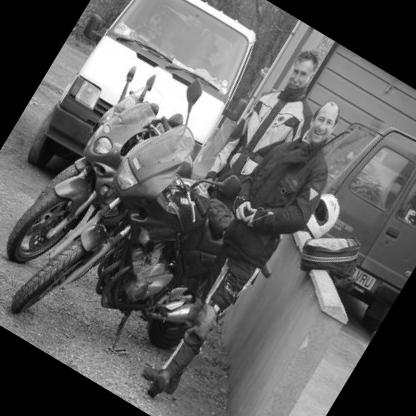car: (23, 1, 272, 225)
moto: (10, 114, 290, 403), (10, 78, 161, 269)
